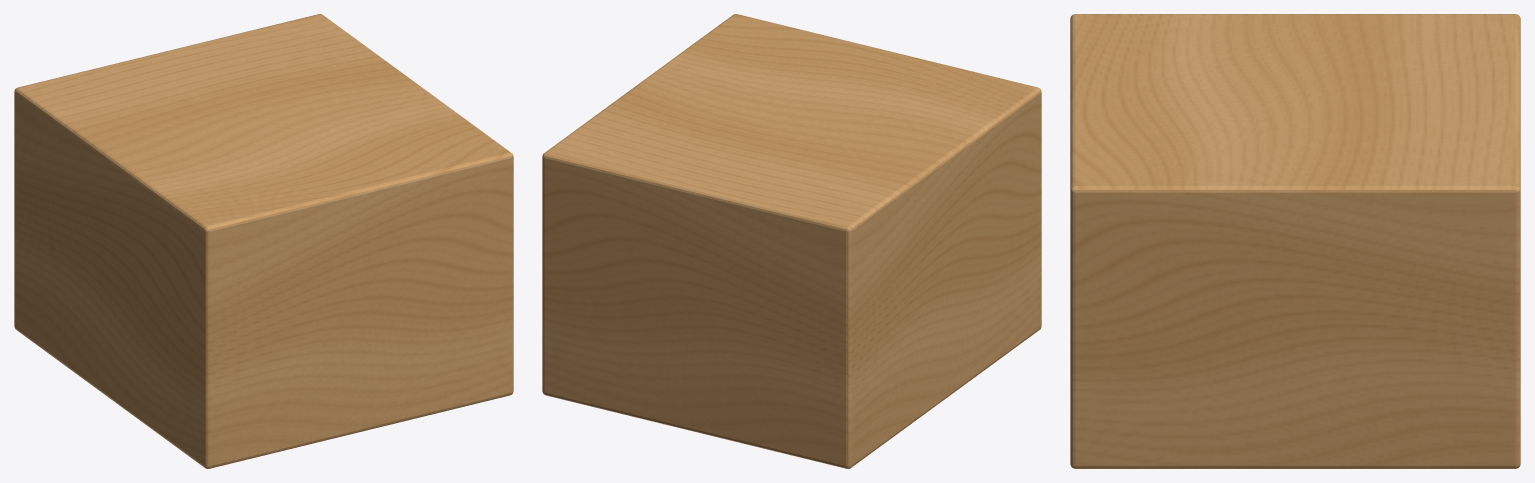
File: spacer.glb
3 views of the same model, side by side, from view 1: azimuth 30°, elevation 25°; view 2: azimuth 150°, elevation 25°; view 3: azimuth 270°, elevation 25° (orthographic). The views are drawn at different scales.
Visible parts, largest first — view 1: spacer; view 2: spacer; view 3: spacer.
Part boxes in pixels (<box>): spacer: <box>14,14,513,468</box>; spacer: <box>542,14,1041,468</box>; spacer: <box>1070,14,1520,468</box>.
Bounding box in the file's own units: 0.024 × 0.018 × 0.026.
1 material, 1 textured.
